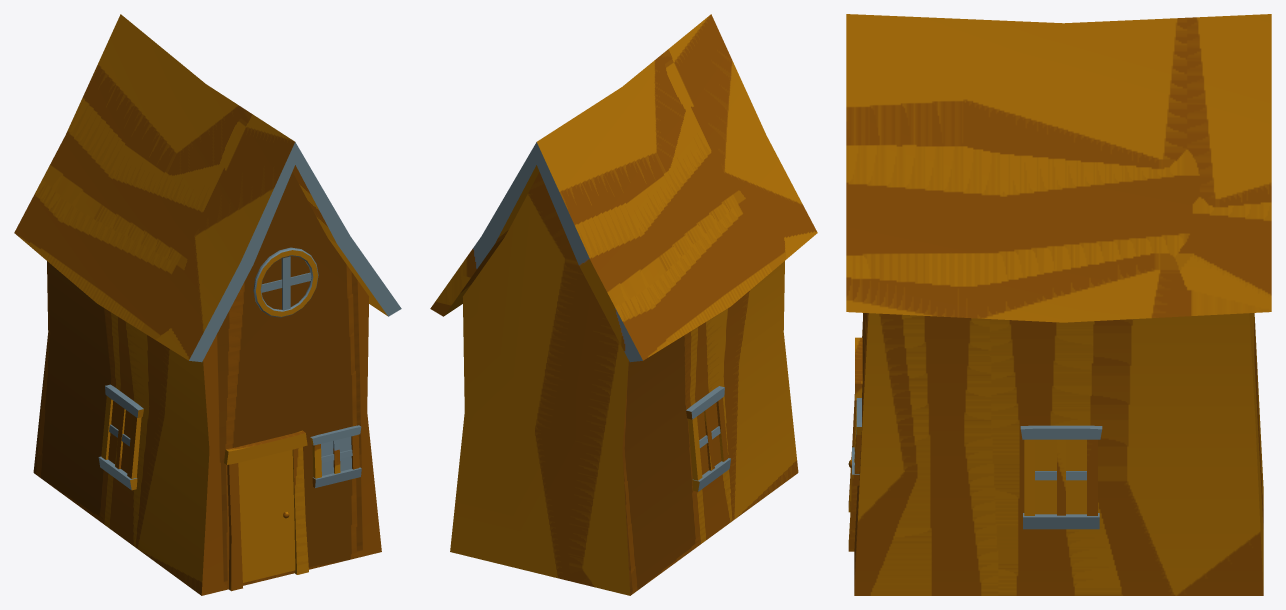
File: house.fbx
The picture shows the model from 3 angles, left to right: view 1: azimuth 30°, elevation 25°; view 2: azimuth 150°, elevation 25°; view 3: azimuth 270°, elevation 25°; orthographic projection. The views are drawn at different scales.
Parts seen in each view (by area): view 1: pCube19; view 2: pCube19; view 3: pCube19.
Boxes of the visible parts, box(x1,y1,x2,y2) form: pCube19: box(14, 14, 401, 595); pCube19: box(430, 14, 817, 595); pCube19: box(846, 14, 1271, 595).
Size of the model in its own units: 3.23 by 6.16 by 4.48.
